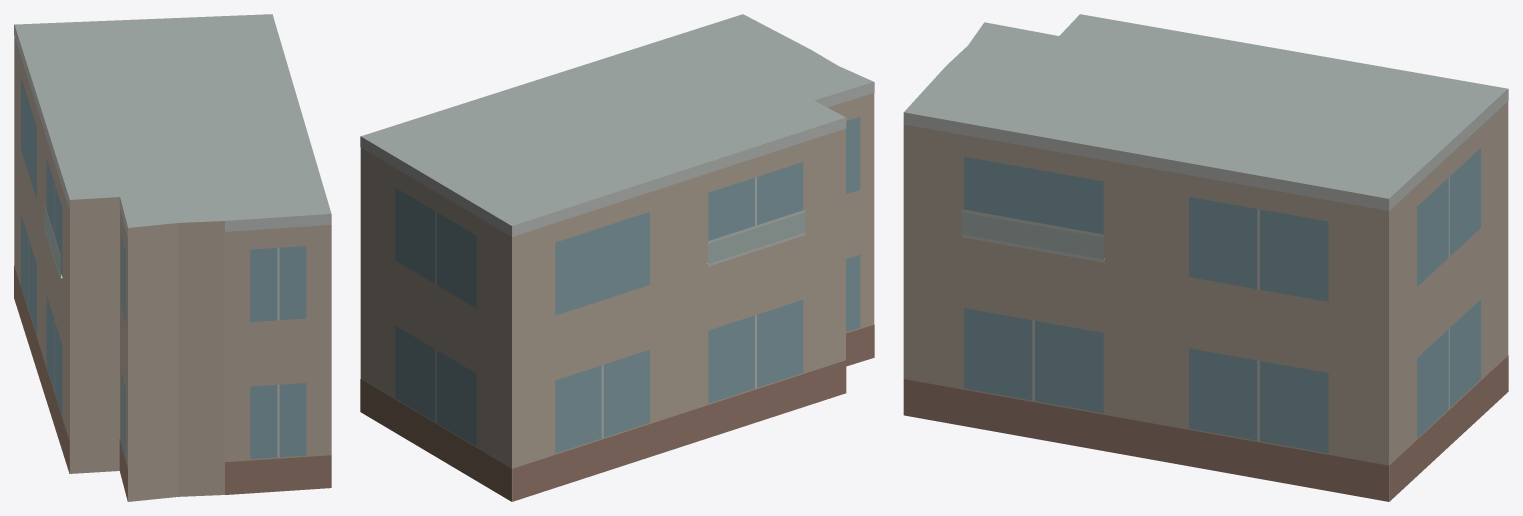
File: survey-upis-32906276.glb
3 renders of one model, left to right at view 1: azimuth 30°, elevation 25°; view 2: azimuth 150°, elevation 25°; view 3: azimuth 270°, elevation 25°, orthographic. The views are drawn at different scales.
Visible parts, largest first — view 1: survey-upis-32906276.tmp; view 2: survey-upis-32906276.tmp; view 3: survey-upis-32906276.tmp.
Boxes of the visible parts, <box> form: survey-upis-32906276.tmp: <box>14,14,331,501</box>; survey-upis-32906276.tmp: <box>360,14,874,501</box>; survey-upis-32906276.tmp: <box>903,14,1508,501</box>.
Size of the model in its own units: 7.99 by 6.1 by 11.04.
